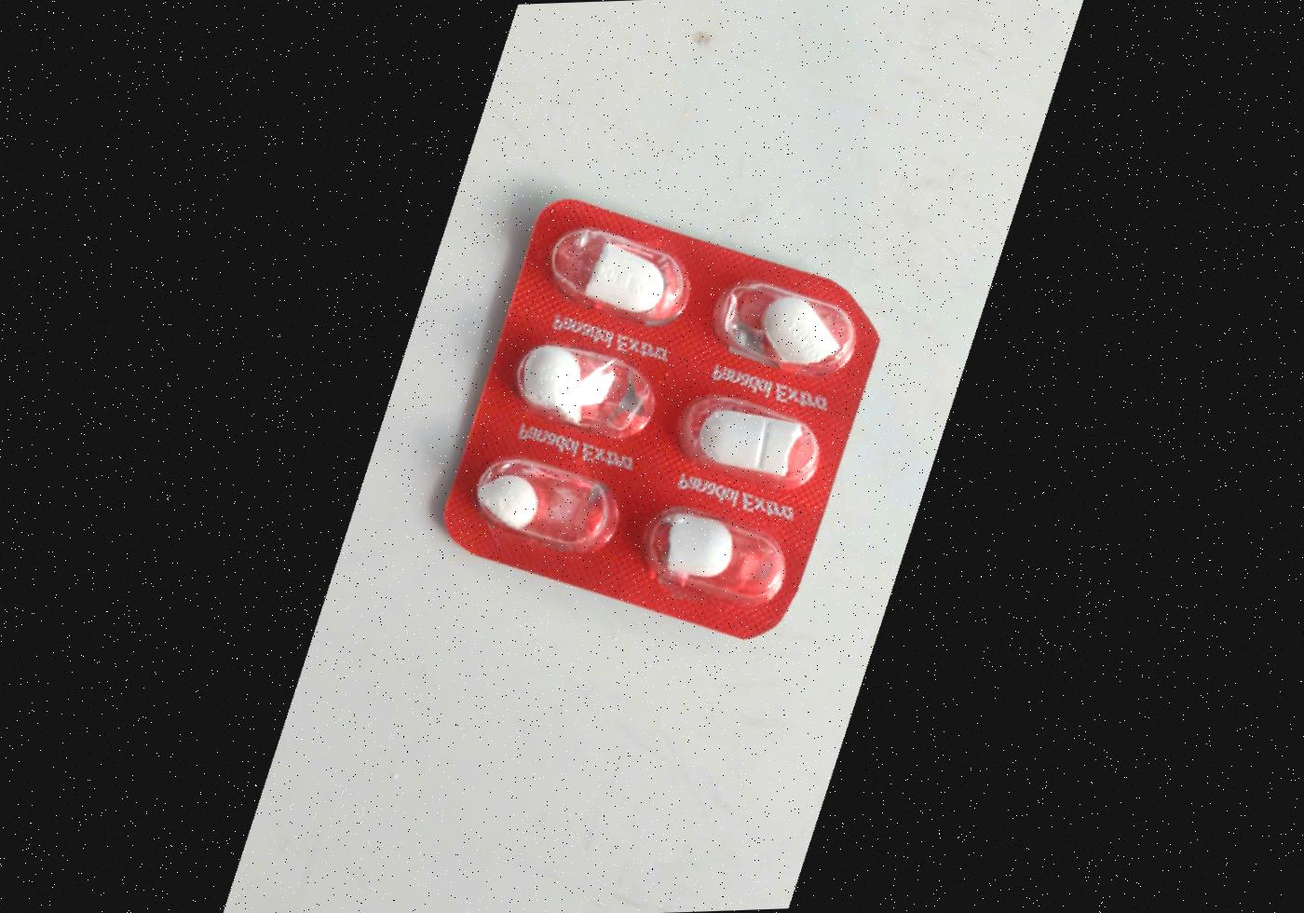Partial: (470, 306, 674, 469), (610, 477, 814, 640), (514, 187, 718, 350), (629, 365, 832, 528), (683, 249, 887, 411), (443, 419, 646, 581)
